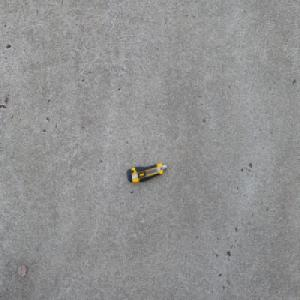Cutter: (126, 162, 167, 183)
